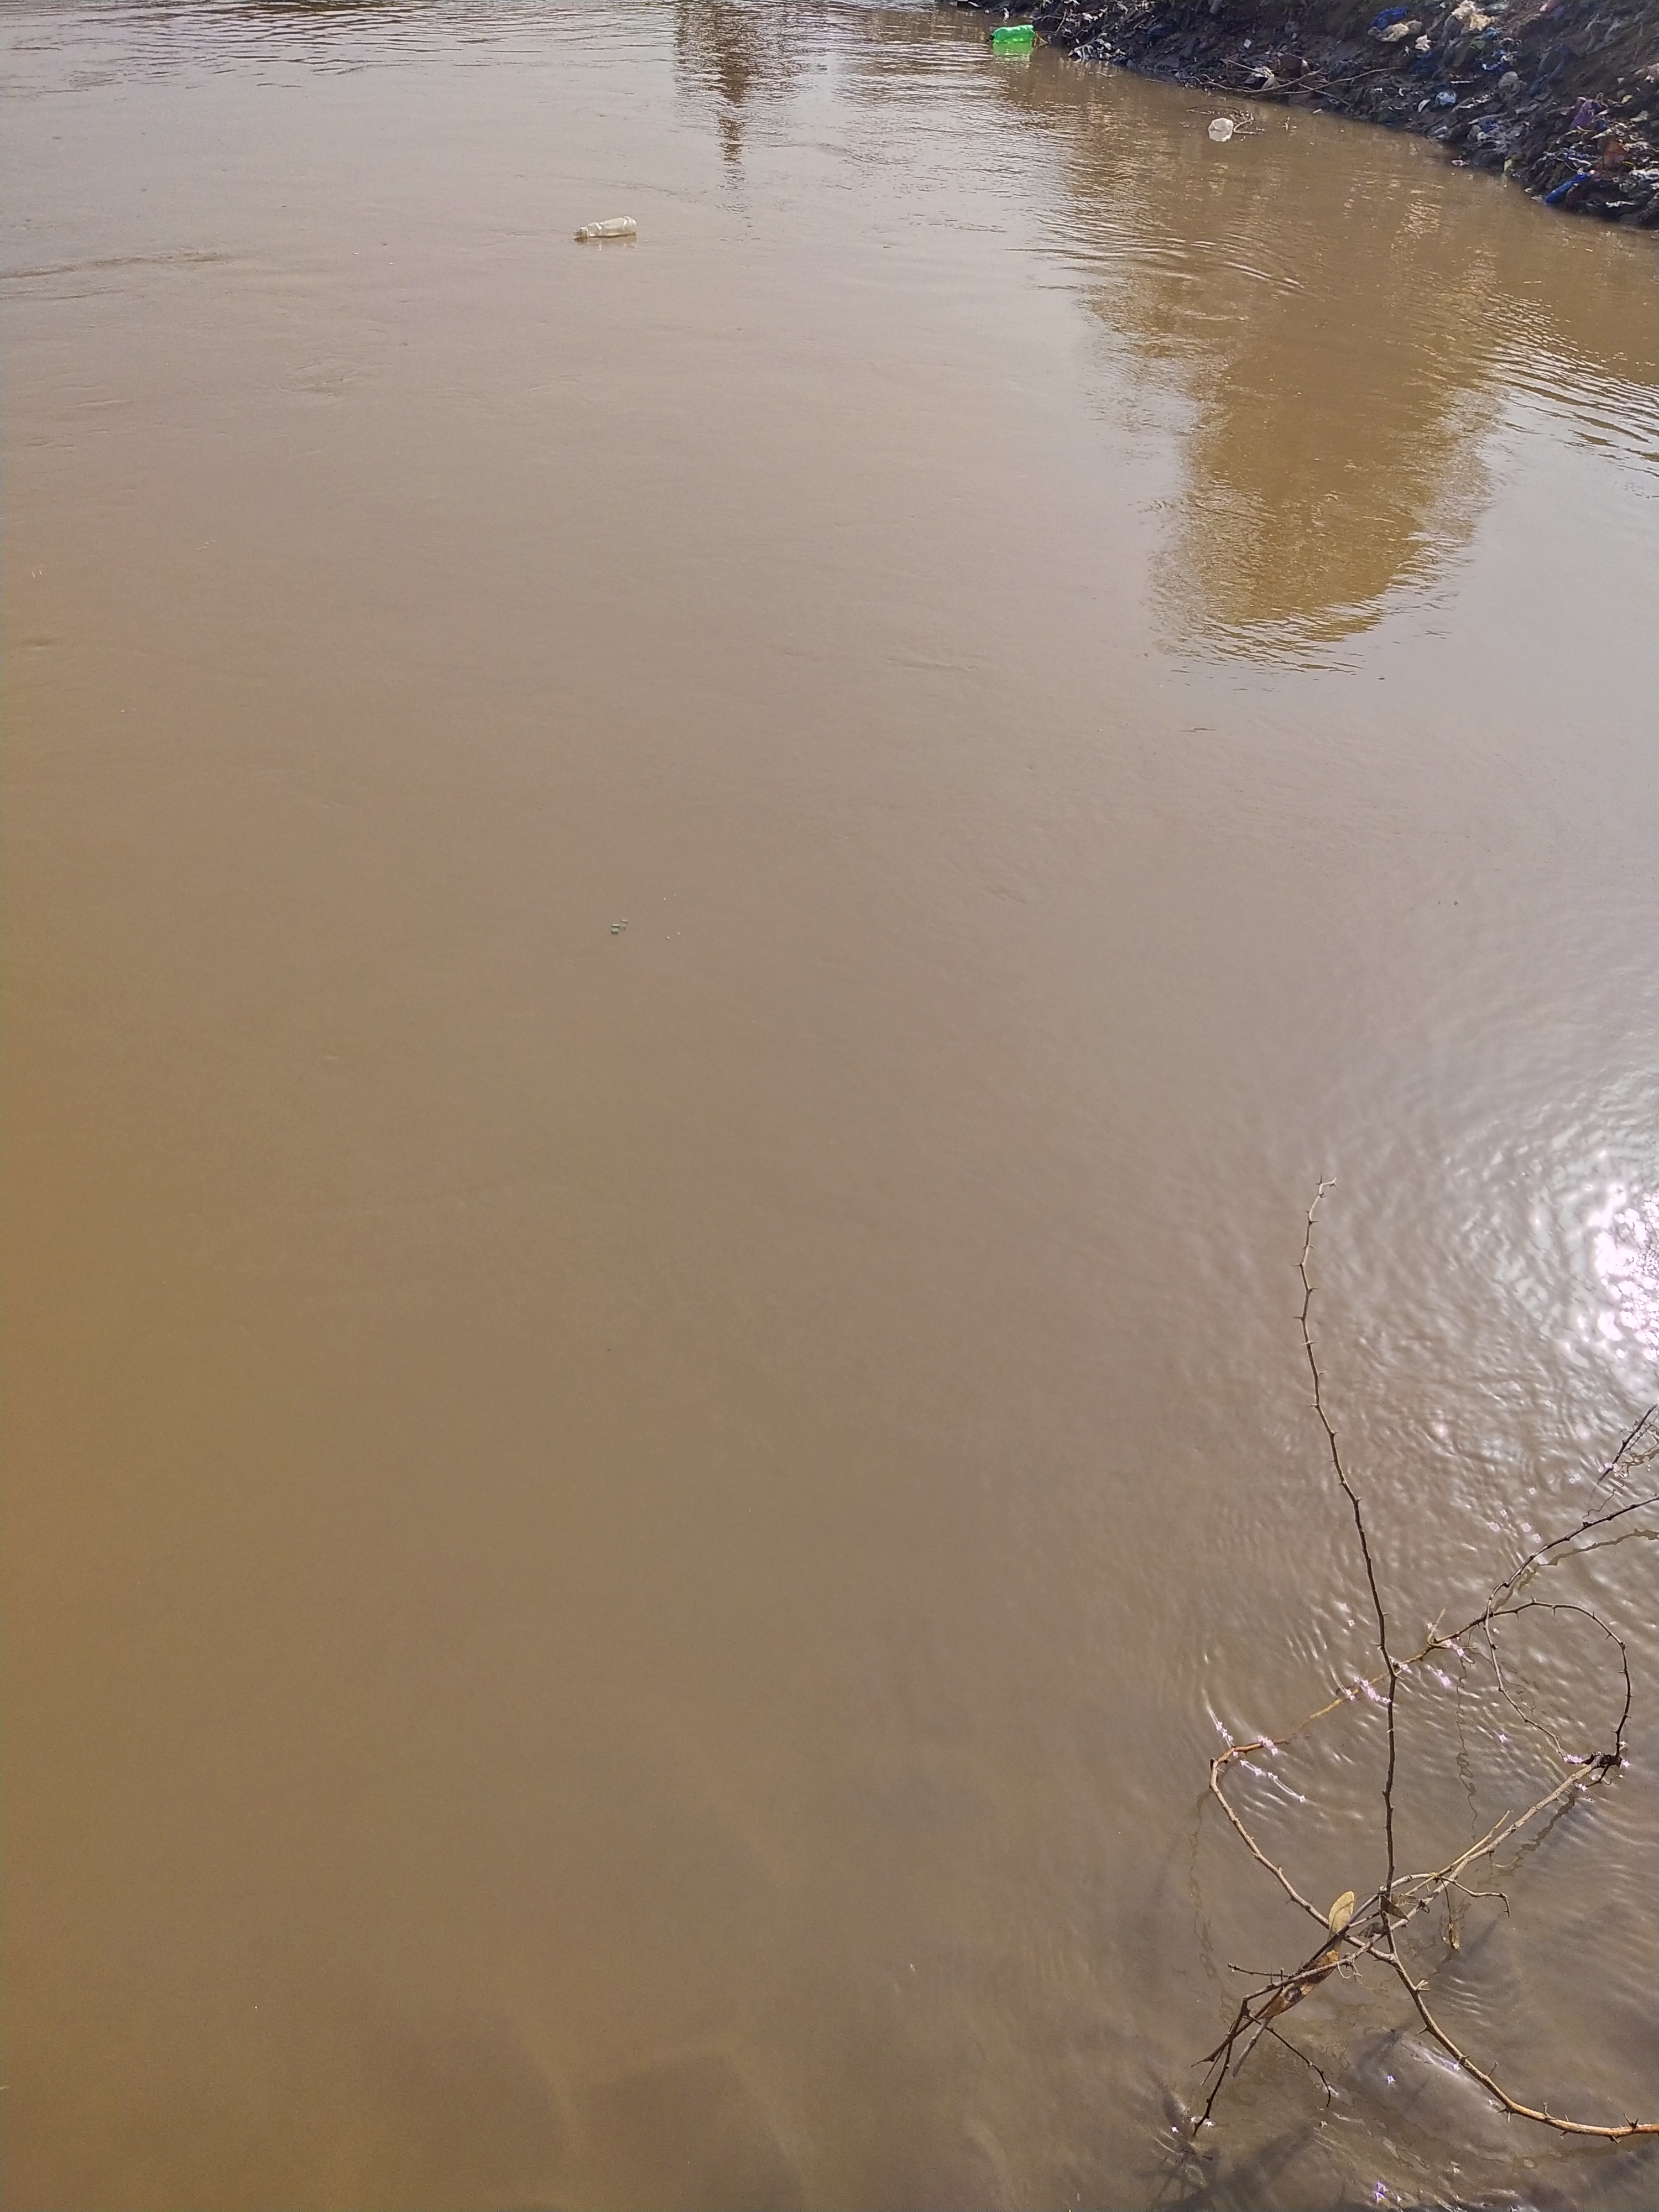Plastic Bottle: (573, 216, 638, 239), (988, 24, 1033, 44)
